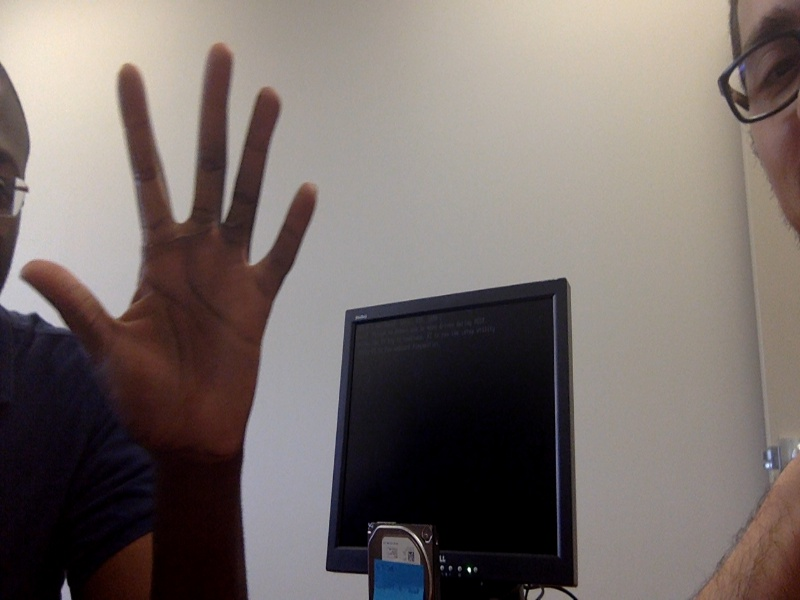5-hand: (23, 40, 321, 482)
